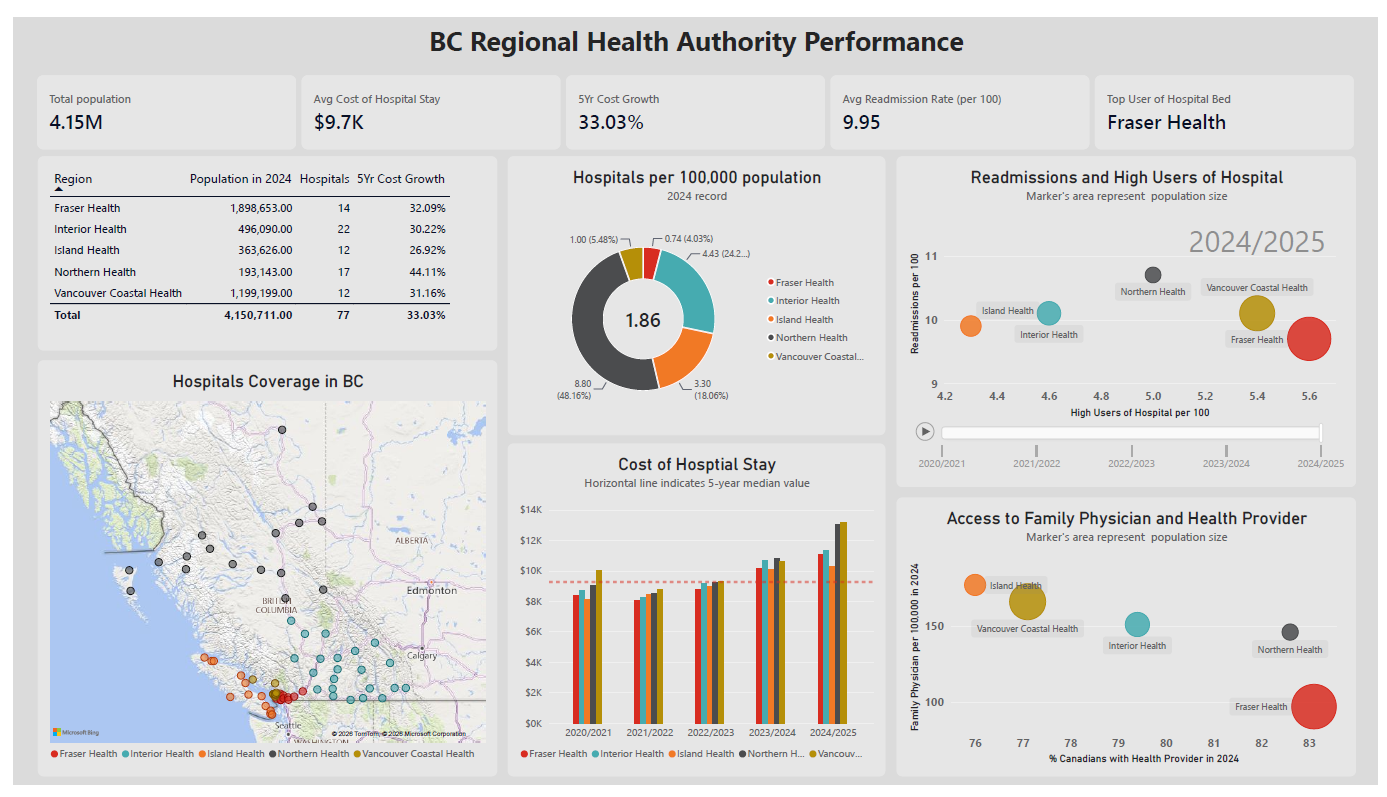

What the dashboard file says about the page in this screenshot:
{"tool":"powerbi","page":{"name":"Regional distribution","canvas":[1920,1080],"ordinal":0},"visuals":[{"type":"textbox","box":[463.8,8.2,994.3,73.5],"z":0},{"type":"map","title":"Hospitals Coverage in BC","fields":{"Series":["bc_health_hospitals_refine.health_authority"],"X":["bc_health_hospitals_refine.longitude"],"Y":["bc_health_hospitals_refine.latitude"]},"box":[35.4,482.9,646.1,584.9],"z":1000},{"type":"tableEx","fields":{"Values":["health authority lookup.region","bc_health_city_population.Total population","bc_health_hospitals_refine.Total hospital","Cost of hospital stay.5Yr Cost Growth"]},"box":[35.4,195.9,646.1,273.4],"z":2000},{"type":"cardVisual","fields":{"Data":["bc_health_city_population.Total population","Cost of hospital stay.Avg Cost of Hospital Stay","Cost of hospital stay.5Yr Cost Growth","Readmissions per 100.Avg Readmission Rate (per 100)","High Users of Hospital Beds per 100.Top User of Hospital Bed"]},"box":[34,81.6,1854,104.7],"z":3000},{"type":"clusteredColumnChart","title":"Cost of Hosptial Stay","fields":{"Category":["time frame lookup.time_frame"],"Series":["Cost of hospital stay.region"],"Y":["Cost of hospital stay.Sum Cost of hospital stay"]},"box":[696.4,599.8,530.5,467.9],"z":4000},{"type":"scatterChart","title":"Readmissions and High Users of Hospital","fields":{"Play":["time frame lookup.time_frame"],"Series":["health authority lookup.region"],"Size":["bc_health_city_population.Total population"],"X":["High Users of Hospital Beds per 100.High Users of Hospital per 100"],"Y":["Readmissions per 100.Readmissions per 100"]},"box":[1243.2,195.9,646.1,465.2],"z":5000},{"type":"scatterChart","title":"Access to Family Physician and Health Provider","fields":{"Series":["health authority lookup.region"],"Size":["bc_health_city_population.Total population"],"X":["% Canadians with Health Provider.% Canadians with Health Provider"],"Y":["Family Physicians per 100,000 population.Family physician per 100,000 population"]},"box":[1243.2,676,646.1,391.7],"z":6000},{"type":"donutChart","title":"Hospitals per 100,000 population","fields":{"Category":["health authority lookup.region"],"Y":["bc_health_hospitals_refine.Hospitals per 100,000 of population"]},"box":[696.4,195.9,530.5,391.7],"z":7000}]}

Visuals, with their boxes in screenshot pixels (x1, y1, x2, y2), scaled from the page's 1920x1080 canvas onto the 1387x797 screenshot:
textbox: pyautogui.locateOnScreen(335, 6, 1053, 60)
"Hospitals Coverage in BC" map: pyautogui.locateOnScreen(26, 356, 492, 788)
tableEx - health authority lookup.region x bc_health_city_population.Total population: pyautogui.locateOnScreen(26, 145, 492, 346)
cardVisual - bc_health_city_population.Total population x Cost of hospital stay.Avg Cost of Hospital Stay: pyautogui.locateOnScreen(25, 60, 1364, 137)
"Cost of Hosptial Stay" clusteredColumnChart: pyautogui.locateOnScreen(503, 443, 886, 788)
"Readmissions and High Users of Hospital" scatterChart: pyautogui.locateOnScreen(898, 145, 1365, 488)
"Access to Family Physician and Health Provider" scatterChart: pyautogui.locateOnScreen(898, 499, 1365, 788)
"Hospitals per 100,000 population" donutChart: pyautogui.locateOnScreen(503, 145, 886, 434)
